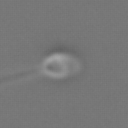normal: (1, 62, 39, 88)
